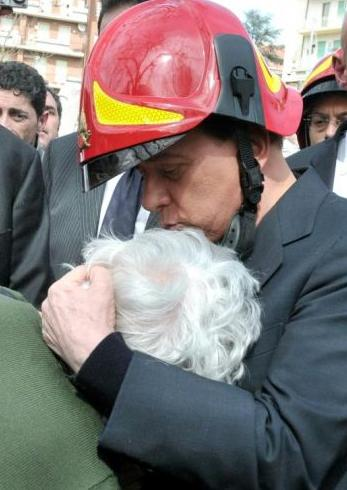helmet: (62, 3, 304, 127)
